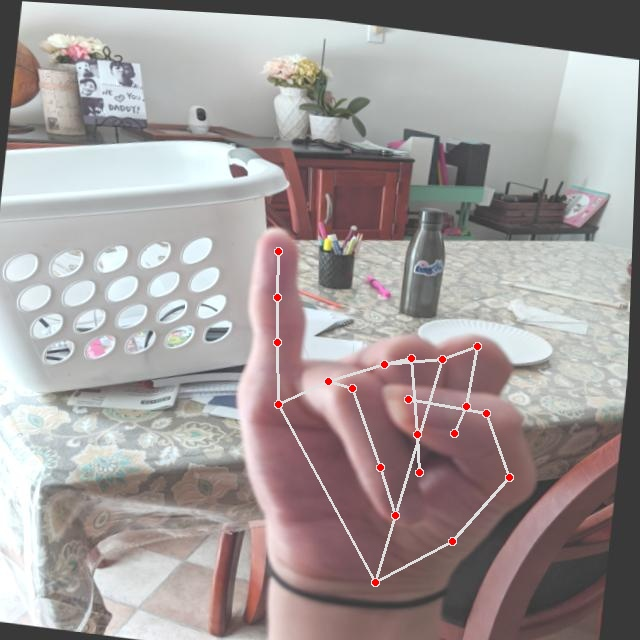I: (214, 215, 570, 619)
